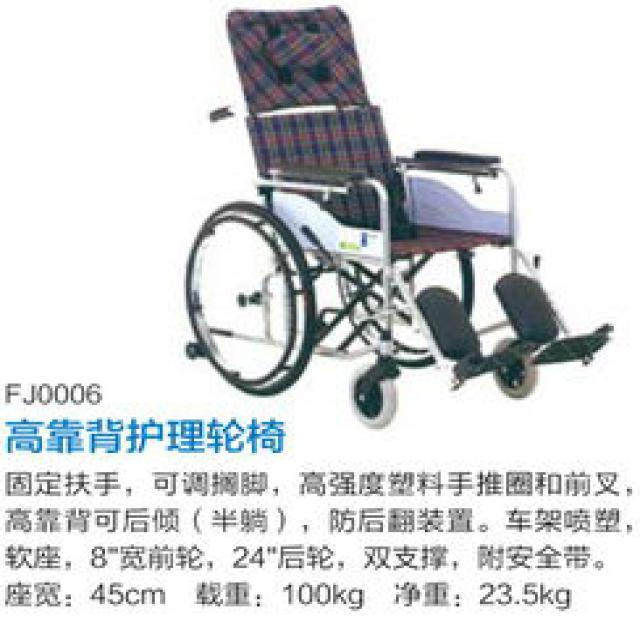wheelchair: (175, 0, 638, 425)
